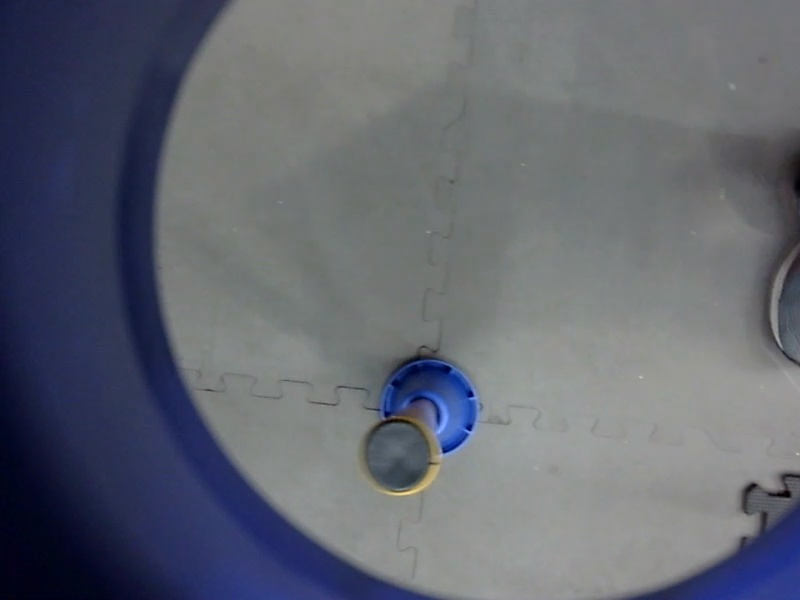tip: (352, 409, 446, 502)
